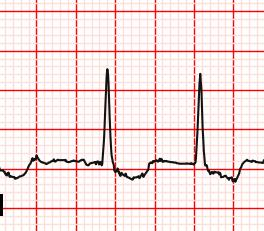ST Depression: (92, 154, 152, 184), (187, 154, 241, 186)
